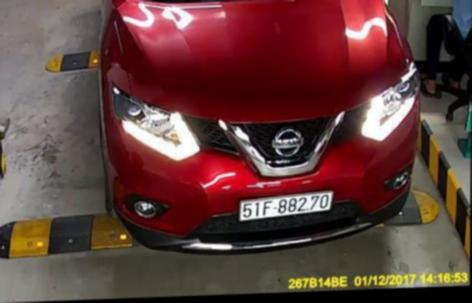License_Plate: (235, 188, 339, 222)
